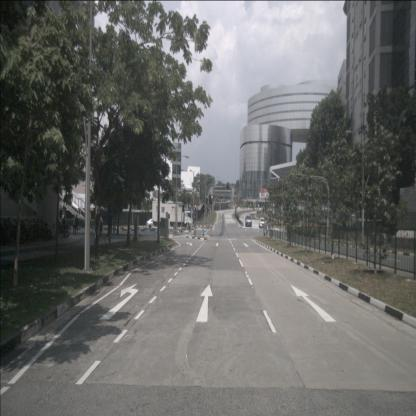human-pedestrian-adult: (107, 208, 113, 243), (74, 214, 79, 235), (71, 214, 76, 235), (99, 214, 103, 238), (62, 215, 66, 233)
vehicle-car: (146, 218, 162, 230), (258, 217, 266, 228), (245, 215, 252, 227)
vehicle-truck: (152, 201, 193, 230)
